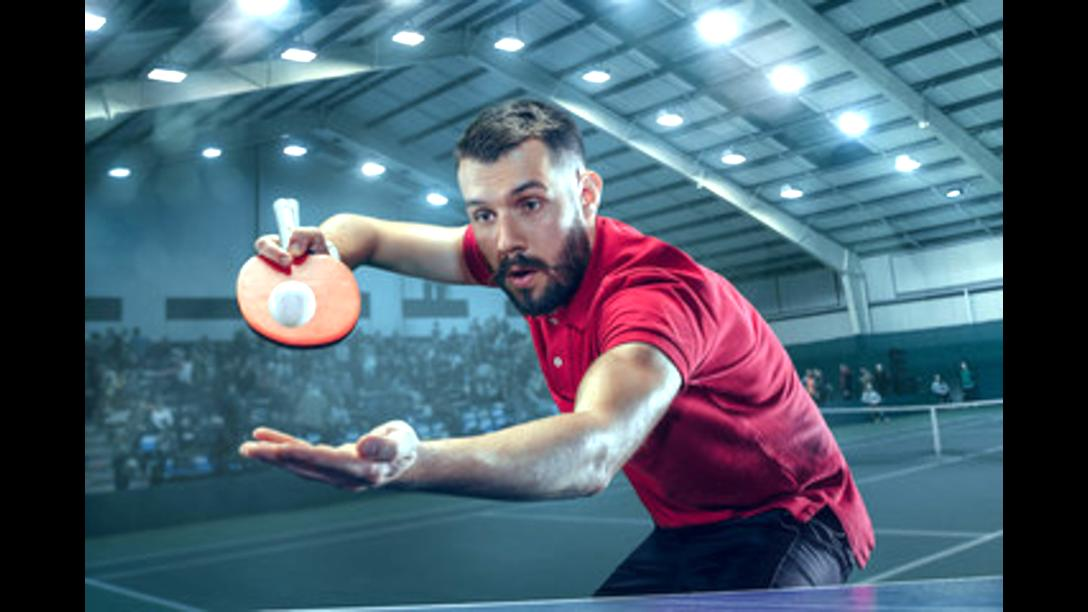Table-Tennis-Ball: (271, 282, 313, 328)
